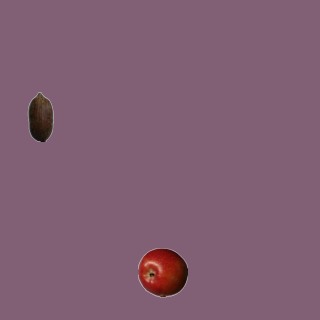Apple Braeburn: (137, 247, 187, 297)
Nut Pecan: (15, 91, 65, 141)
